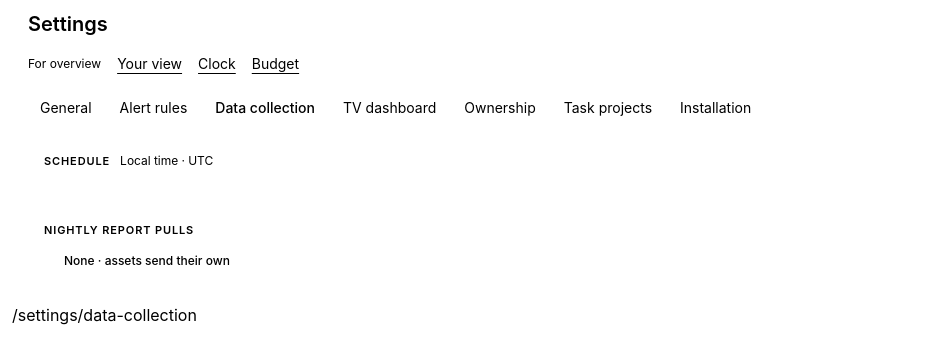
it: /settings › says so plainly when a project map or a pull registry is empty
Check: the element showing "None · assets send their own" is shown, box [64, 253, 230, 268]
Click the tab "Task projects" at x=608, y=108, box [564, 99, 652, 116]
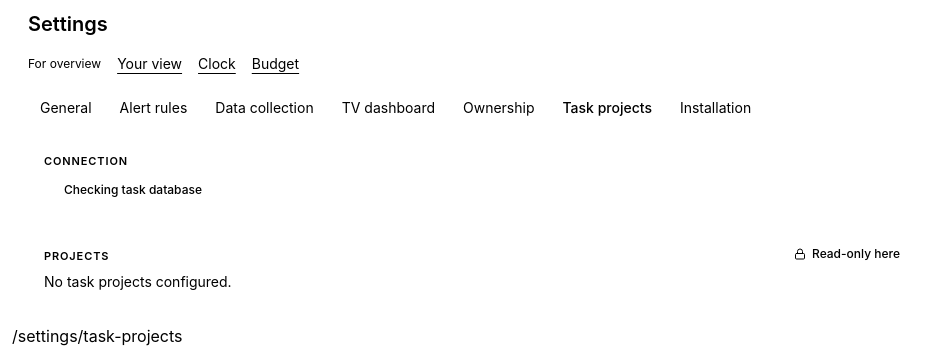
Check: the text "No task projects configured." is shown, box [44, 273, 232, 290]
Check: the text "Read-only here" is shown, box [786, 244, 908, 264]
